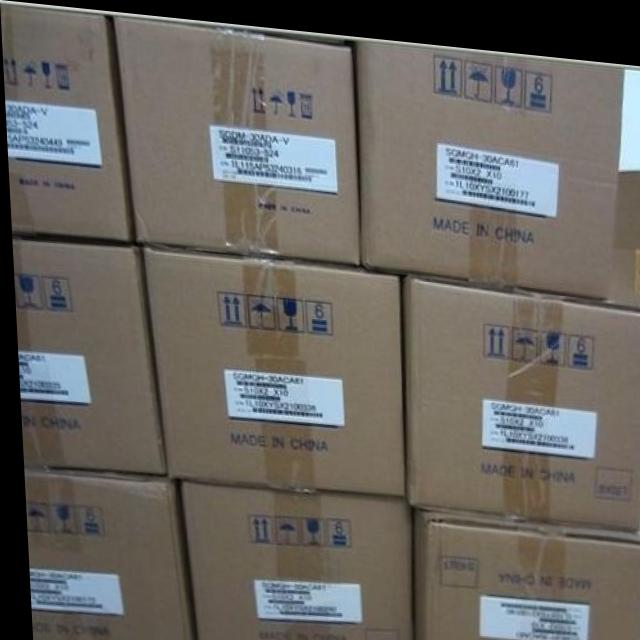box: (356, 34, 625, 286), (140, 246, 401, 488), (401, 264, 640, 518), (111, 12, 357, 256), (176, 478, 407, 640), (10, 241, 162, 473), (408, 498, 640, 640), (0, 2, 130, 239), (20, 468, 188, 640), (605, 157, 640, 297)
